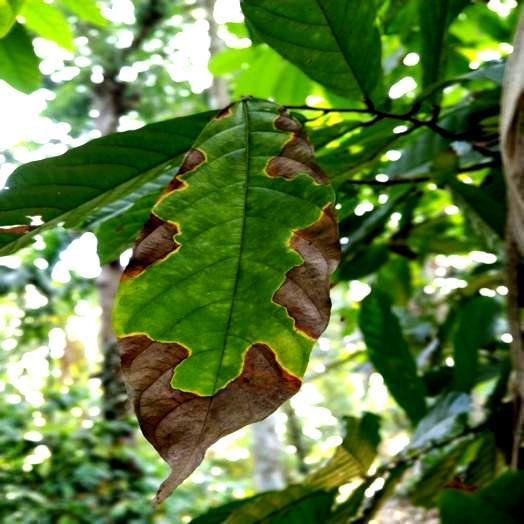Potassium: (114, 99, 339, 501)
